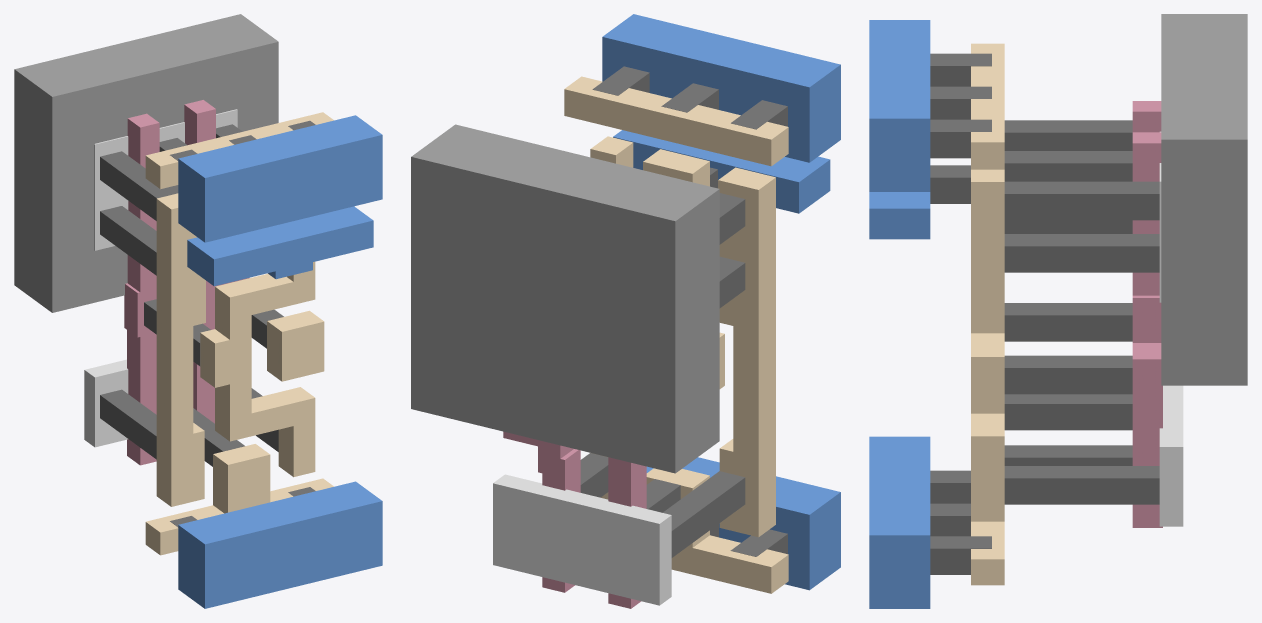
Rendered from sky130_fd_sc_hd__lpflow_clkbufkapwr_1.gds.gltf.
The picture shows the model from 3 angles, left to right: view 1: azimuth 30°, elevation 25°; view 2: azimuth 150°, elevation 25°; view 3: azimuth 270°, elevation 25°; orthographic projection. The views are drawn at different scales.
Visible parts, largest first — view 1: sky130_fd_sc_hd__lpflow_clkbufkapwr_1_met1, sky130_fd_sc_hd__lpflow_clkbufkapwr_1_nwell, sky130_fd_sc_hd__lpflow_clkbufkapwr_1_li1, sky130_fd_sc_hd__lpflow_clkbufkapwr_1_licon, sky130_fd_sc_hd__lpflow_clkbufkapwr_1_poly, sky130_fd_sc_hd__lpflow_clkbufkapwr_1_diff, sky130_fd_sc_hd__lpflow_clkbufkapwr_1_mcon; view 2: sky130_fd_sc_hd__lpflow_clkbufkapwr_1_nwell, sky130_fd_sc_hd__lpflow_clkbufkapwr_1_li1, sky130_fd_sc_hd__lpflow_clkbufkapwr_1_met1, sky130_fd_sc_hd__lpflow_clkbufkapwr_1_diff, sky130_fd_sc_hd__lpflow_clkbufkapwr_1_licon, sky130_fd_sc_hd__lpflow_clkbufkapwr_1_poly, sky130_fd_sc_hd__lpflow_clkbufkapwr_1_mcon; view 3: sky130_fd_sc_hd__lpflow_clkbufkapwr_1_licon, sky130_fd_sc_hd__lpflow_clkbufkapwr_1_nwell, sky130_fd_sc_hd__lpflow_clkbufkapwr_1_met1, sky130_fd_sc_hd__lpflow_clkbufkapwr_1_li1, sky130_fd_sc_hd__lpflow_clkbufkapwr_1_mcon, sky130_fd_sc_hd__lpflow_clkbufkapwr_1_poly, sky130_fd_sc_hd__lpflow_clkbufkapwr_1_diff.
Boxes of the visible parts, x1,y1,x2,y2 form: sky130_fd_sc_hd__lpflow_clkbufkapwr_1_met1: [178, 115, 382, 608]; sky130_fd_sc_hd__lpflow_clkbufkapwr_1_nwell: [14, 14, 278, 312]; sky130_fd_sc_hd__lpflow_clkbufkapwr_1_li1: [145, 112, 333, 555]; sky130_fd_sc_hd__lpflow_clkbufkapwr_1_licon: [100, 124, 283, 466]; sky130_fd_sc_hd__lpflow_clkbufkapwr_1_poly: [124, 100, 249, 465]; sky130_fd_sc_hd__lpflow_clkbufkapwr_1_diff: [84, 109, 237, 447]; sky130_fd_sc_hd__lpflow_clkbufkapwr_1_mcon: [170, 120, 315, 527]; sky130_fd_sc_hd__lpflow_clkbufkapwr_1_nwell: [411, 124, 719, 473]; sky130_fd_sc_hd__lpflow_clkbufkapwr_1_li1: [564, 76, 788, 593]; sky130_fd_sc_hd__lpflow_clkbufkapwr_1_met1: [602, 14, 840, 590]; sky130_fd_sc_hd__lpflow_clkbufkapwr_1_diff: [493, 474, 671, 605]; sky130_fd_sc_hd__lpflow_clkbufkapwr_1_licon: [580, 193, 745, 557]; sky130_fd_sc_hd__lpflow_clkbufkapwr_1_poly: [503, 431, 646, 608]; sky130_fd_sc_hd__lpflow_clkbufkapwr_1_mcon: [592, 66, 787, 556]; sky130_fd_sc_hd__lpflow_clkbufkapwr_1_licon: [1004, 120, 1159, 504]; sky130_fd_sc_hd__lpflow_clkbufkapwr_1_nwell: [1161, 14, 1247, 385]; sky130_fd_sc_hd__lpflow_clkbufkapwr_1_met1: [869, 20, 930, 608]; sky130_fd_sc_hd__lpflow_clkbufkapwr_1_li1: [971, 43, 1004, 585]; sky130_fd_sc_hd__lpflow_clkbufkapwr_1_mcon: [930, 53, 991, 574]; sky130_fd_sc_hd__lpflow_clkbufkapwr_1_poly: [1132, 101, 1162, 527]; sky130_fd_sc_hd__lpflow_clkbufkapwr_1_diff: [1159, 131, 1183, 526].
Size of the model in its own units: 1.76 by 3.2 by 2.24.
